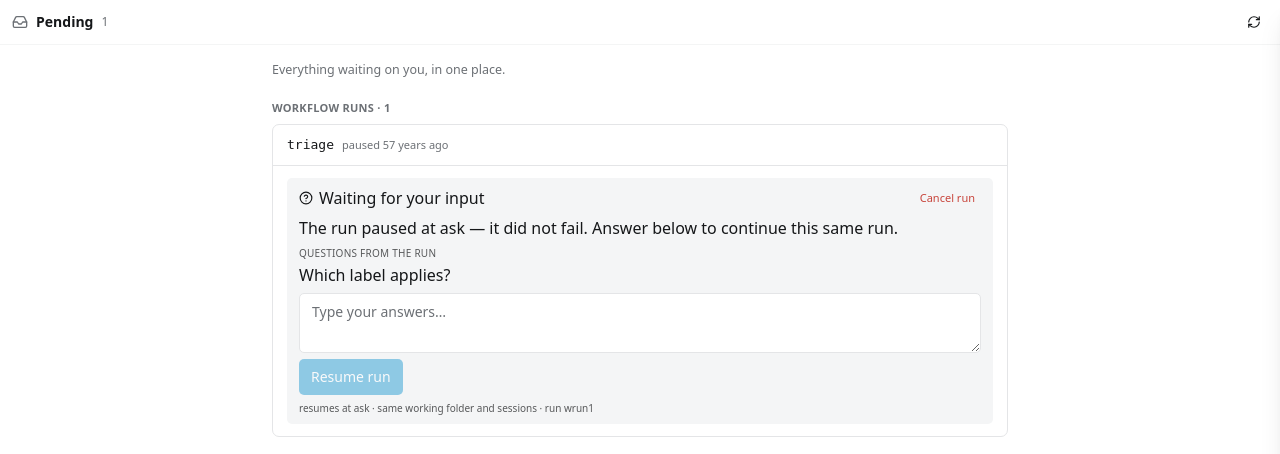
it: PendingView › resumes a workflow run with the answers typed in its form
Type "the billing label" into the text box with placeholder "Type your answers…". click: (640, 323)
box: [299,293,981,353]
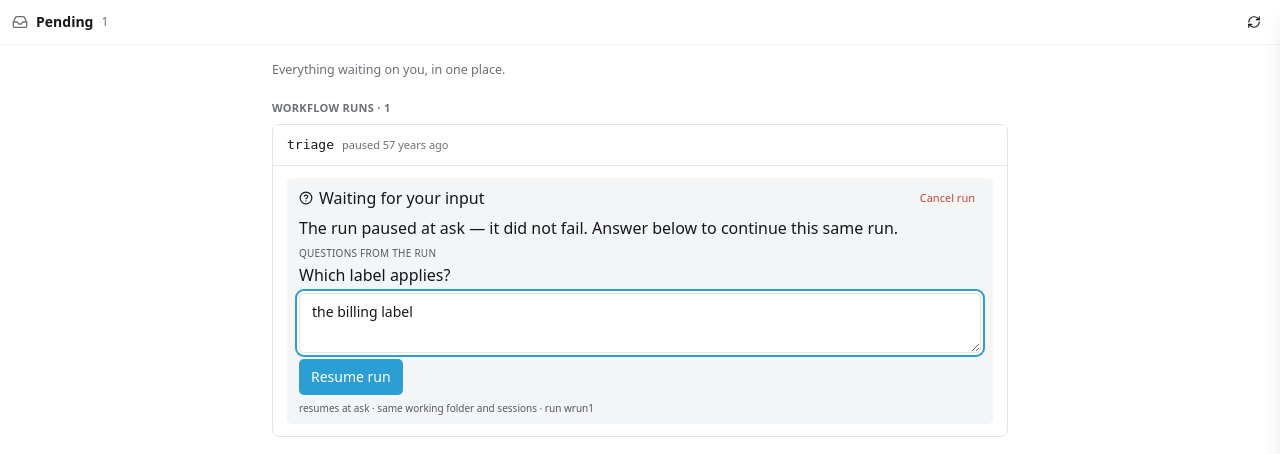
Click the button "Resume run". click: (351, 377)
box: [299,359,403,395]
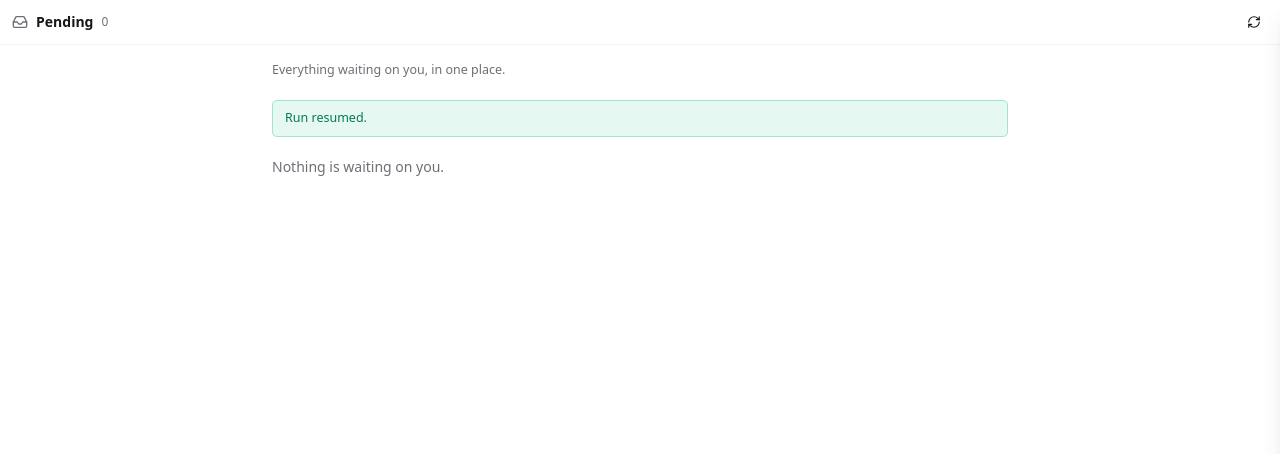
Result: the text "Nothing is waiting on you." is shown at [272,156,444,176]
